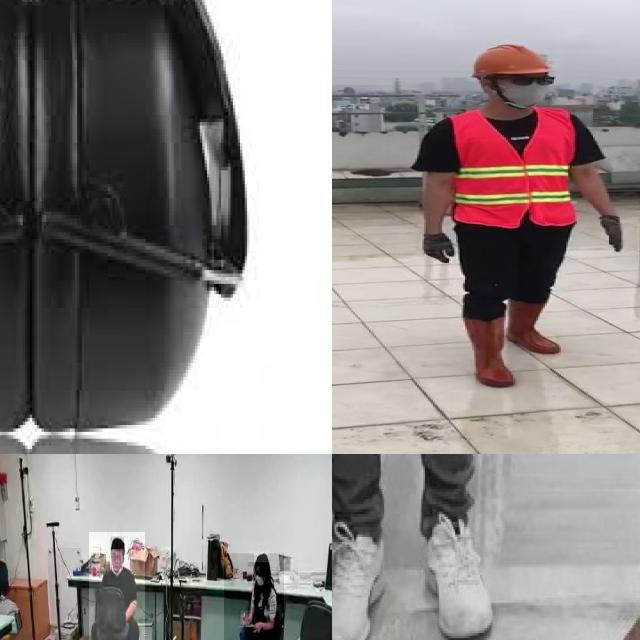Ear-protection: (27, 0, 211, 428)
Sandals: (411, 485, 503, 640)
boots: (460, 316, 518, 388), (506, 299, 563, 355)
face_mask: (254, 562, 270, 586)
face_nomask: (110, 550, 124, 571)
glasses: (500, 72, 563, 90)
hand_glove: (421, 233, 456, 263), (598, 216, 627, 251)
hand_noglove: (250, 619, 264, 633), (240, 610, 252, 626)
head_helmet: (469, 40, 551, 78)
head_nohelmet: (110, 536, 124, 550), (254, 553, 269, 563)
person: (88, 531, 145, 640), (223, 553, 284, 640)
vest: (449, 107, 579, 228)
